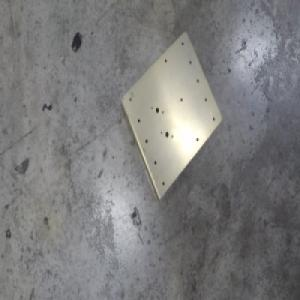MetalSheet: (118, 30, 223, 202)
